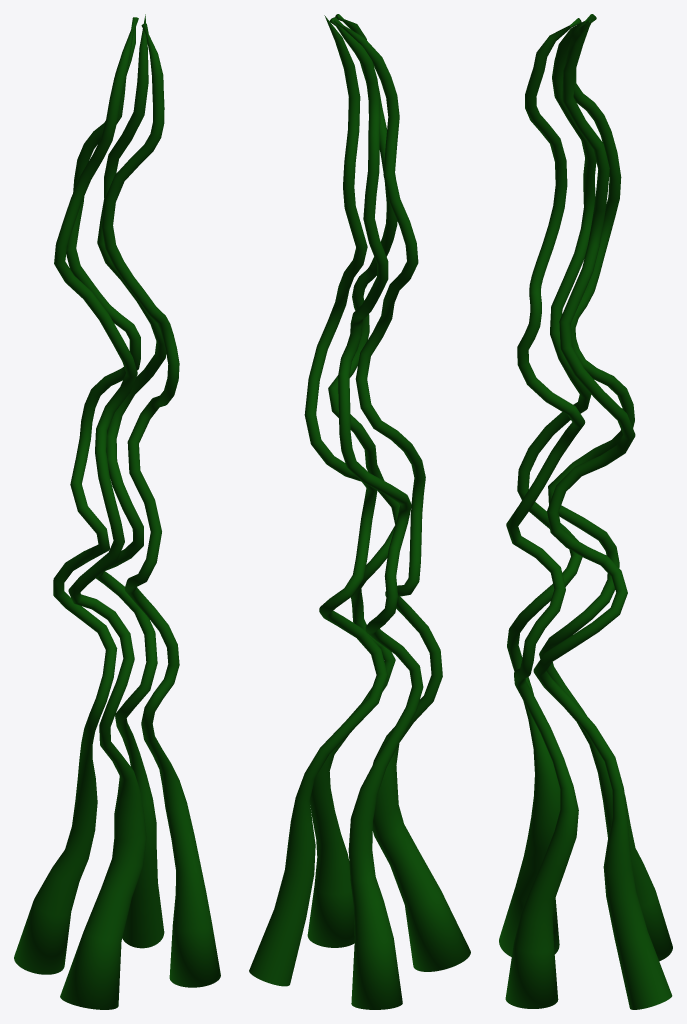
File: TreeLines.fbx
The picture shows the model from 3 angles, left to right: view 1: azimuth 30°, elevation 25°; view 2: azimuth 150°, elevation 25°; view 3: azimuth 270°, elevation 25°; orthographic projection. The views are drawn at different scales.
Parts seen in each view (by area): view 1: TreeLine.004, TreeLine.007, TreeLine.006, TreeLine.005; view 2: TreeLine.006, TreeLine.004, TreeLine.005, TreeLine.007; view 3: TreeLine.005, TreeLine.007, TreeLine.004, TreeLine.006.
Boxes of the visible parts, <box> form: TreeLine.004: <box>54,17,146,1009</box>; TreeLine.007: <box>101,23,220,987</box>; TreeLine.006: <box>14,17,140,974</box>; TreeLine.005: <box>95,14,166,948</box>; TreeLine.006: <box>329,17,423,1009</box>; TreeLine.004: <box>333,17,470,971</box>; TreeLine.005: <box>249,15,387,986</box>; TreeLine.007: <box>307,14,399,947</box>; TreeLine.005: <box>533,20,672,1009</box>; TreeLine.007: <box>505,18,585,1008</box>; TreeLine.004: <box>499,14,596,956</box>; TreeLine.006: <box>539,15,672,961</box>.
Size of the model in its own units: 6.32 by 36.88 by 5.95.
